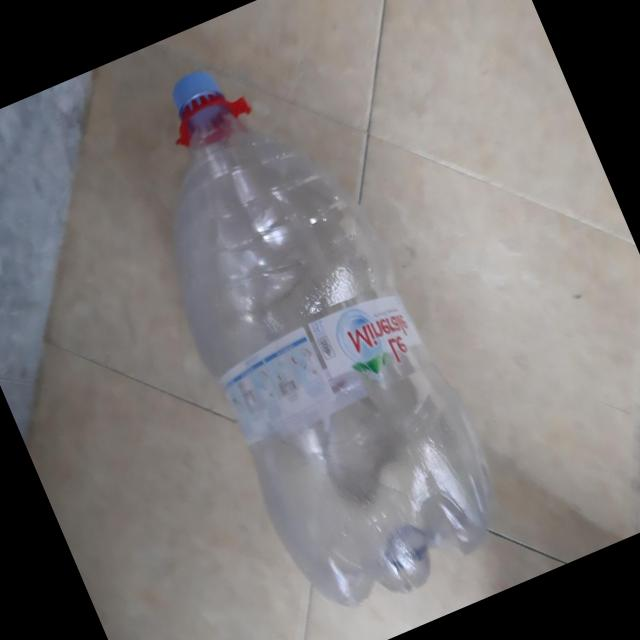Galon: (93, 22, 524, 633)
